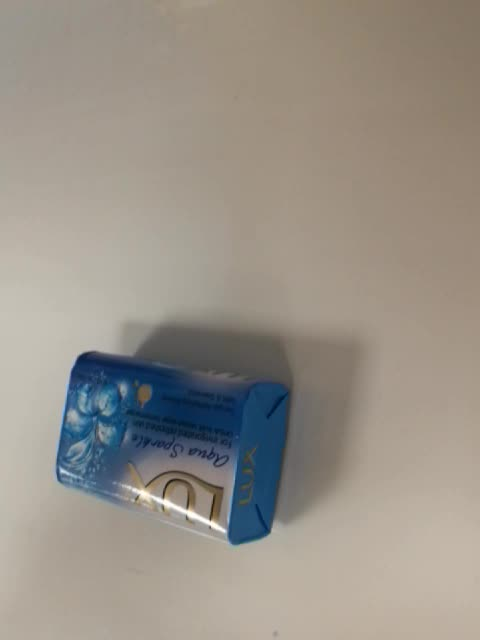soap: (54, 348, 291, 546)
